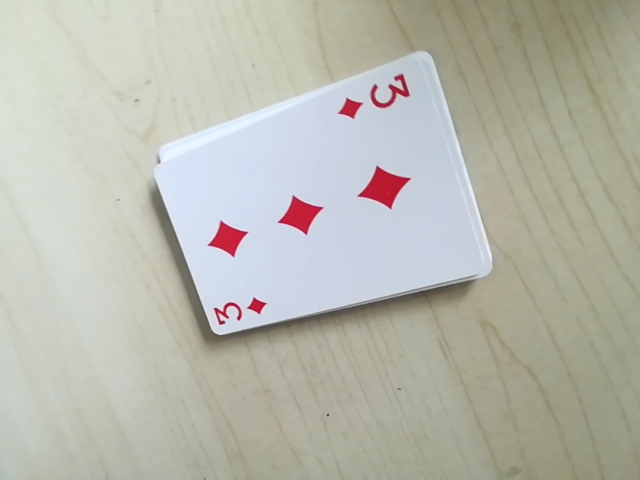fk 3: (332, 68, 418, 125), (205, 290, 272, 336)
